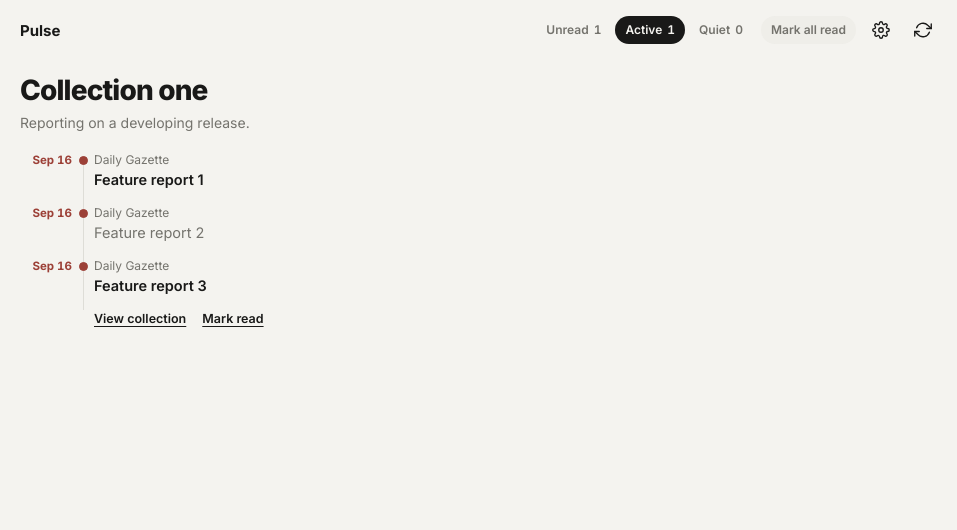
Pulse visit and update interface › keeps a collection snapshot open, acknowledges only its displayed revision and loads changes on request
Click the button "Collection one".
click(114, 90)  # box [20,75,208,105]
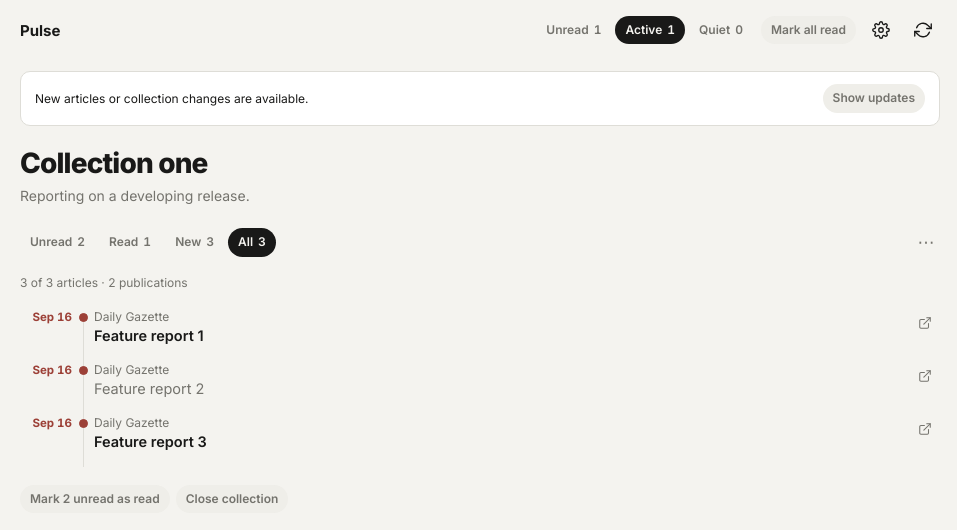
expect the text "Feature report 4" is not shown: met
expect the text "Show updates" is shown: met, box [823,84,925,113]
Click the button "Close collection".
click(232, 499)  # box [176,485,288,514]
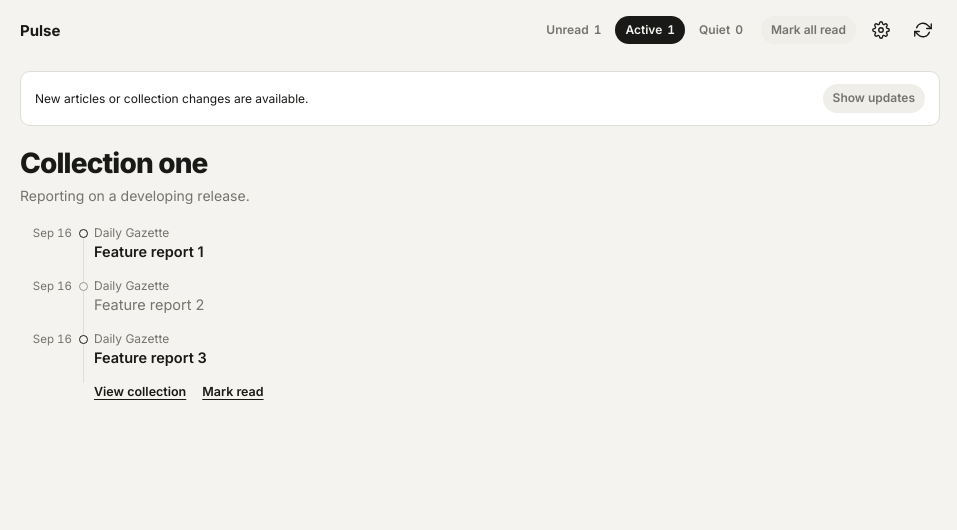
Click the button "Show updates".
click(874, 98)  # box [823,84,925,113]
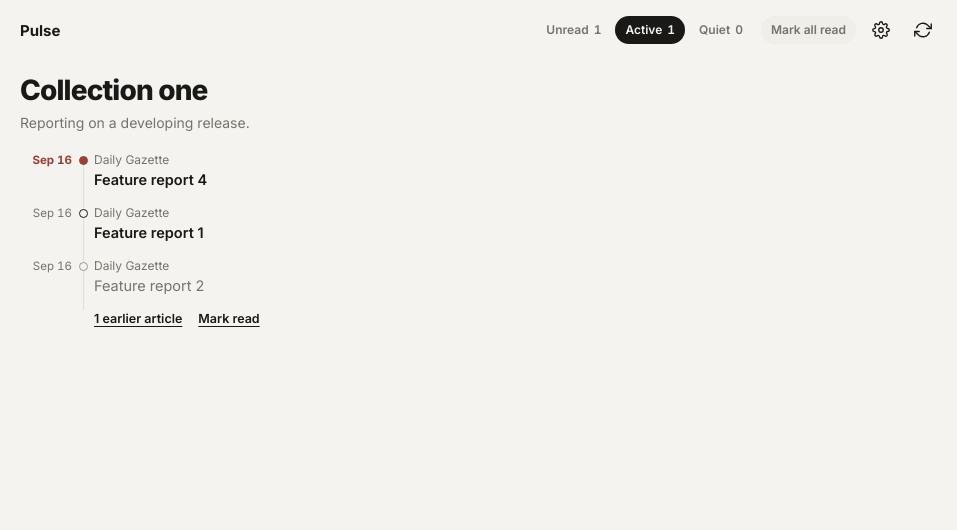
expect the number of list items with class "is-new" is 1: met, box [20,151,940,204]
expect the button "Collection one" is collapsed: met
expect the text "Feature report 4" is shown: met, box [94,171,207,188]
Click the button "Collection one".
click(114, 90)  # box [20,75,208,105]
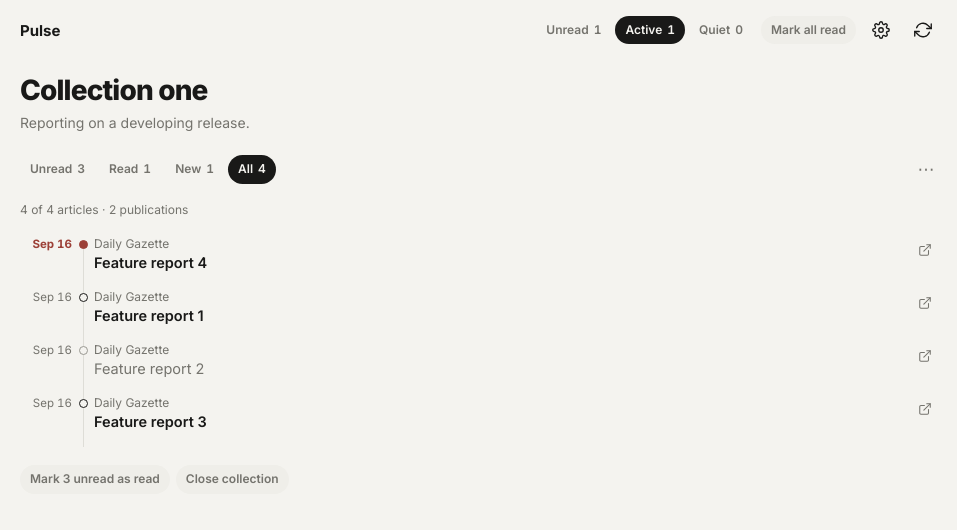
Click the button "Mark 3 unread as read".
click(95, 479)  # box [20,465,170,494]
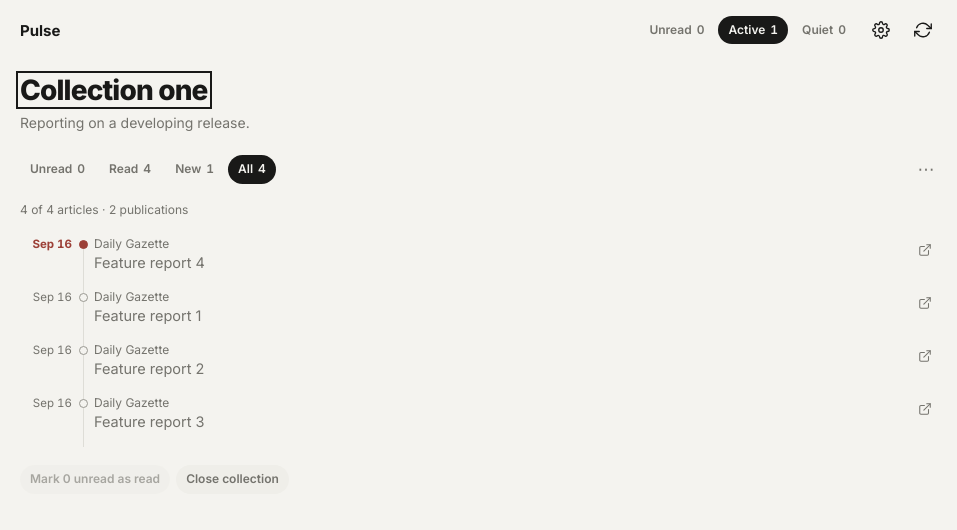
expect the text "0 unread" is shown: met, box [20,465,170,494]
